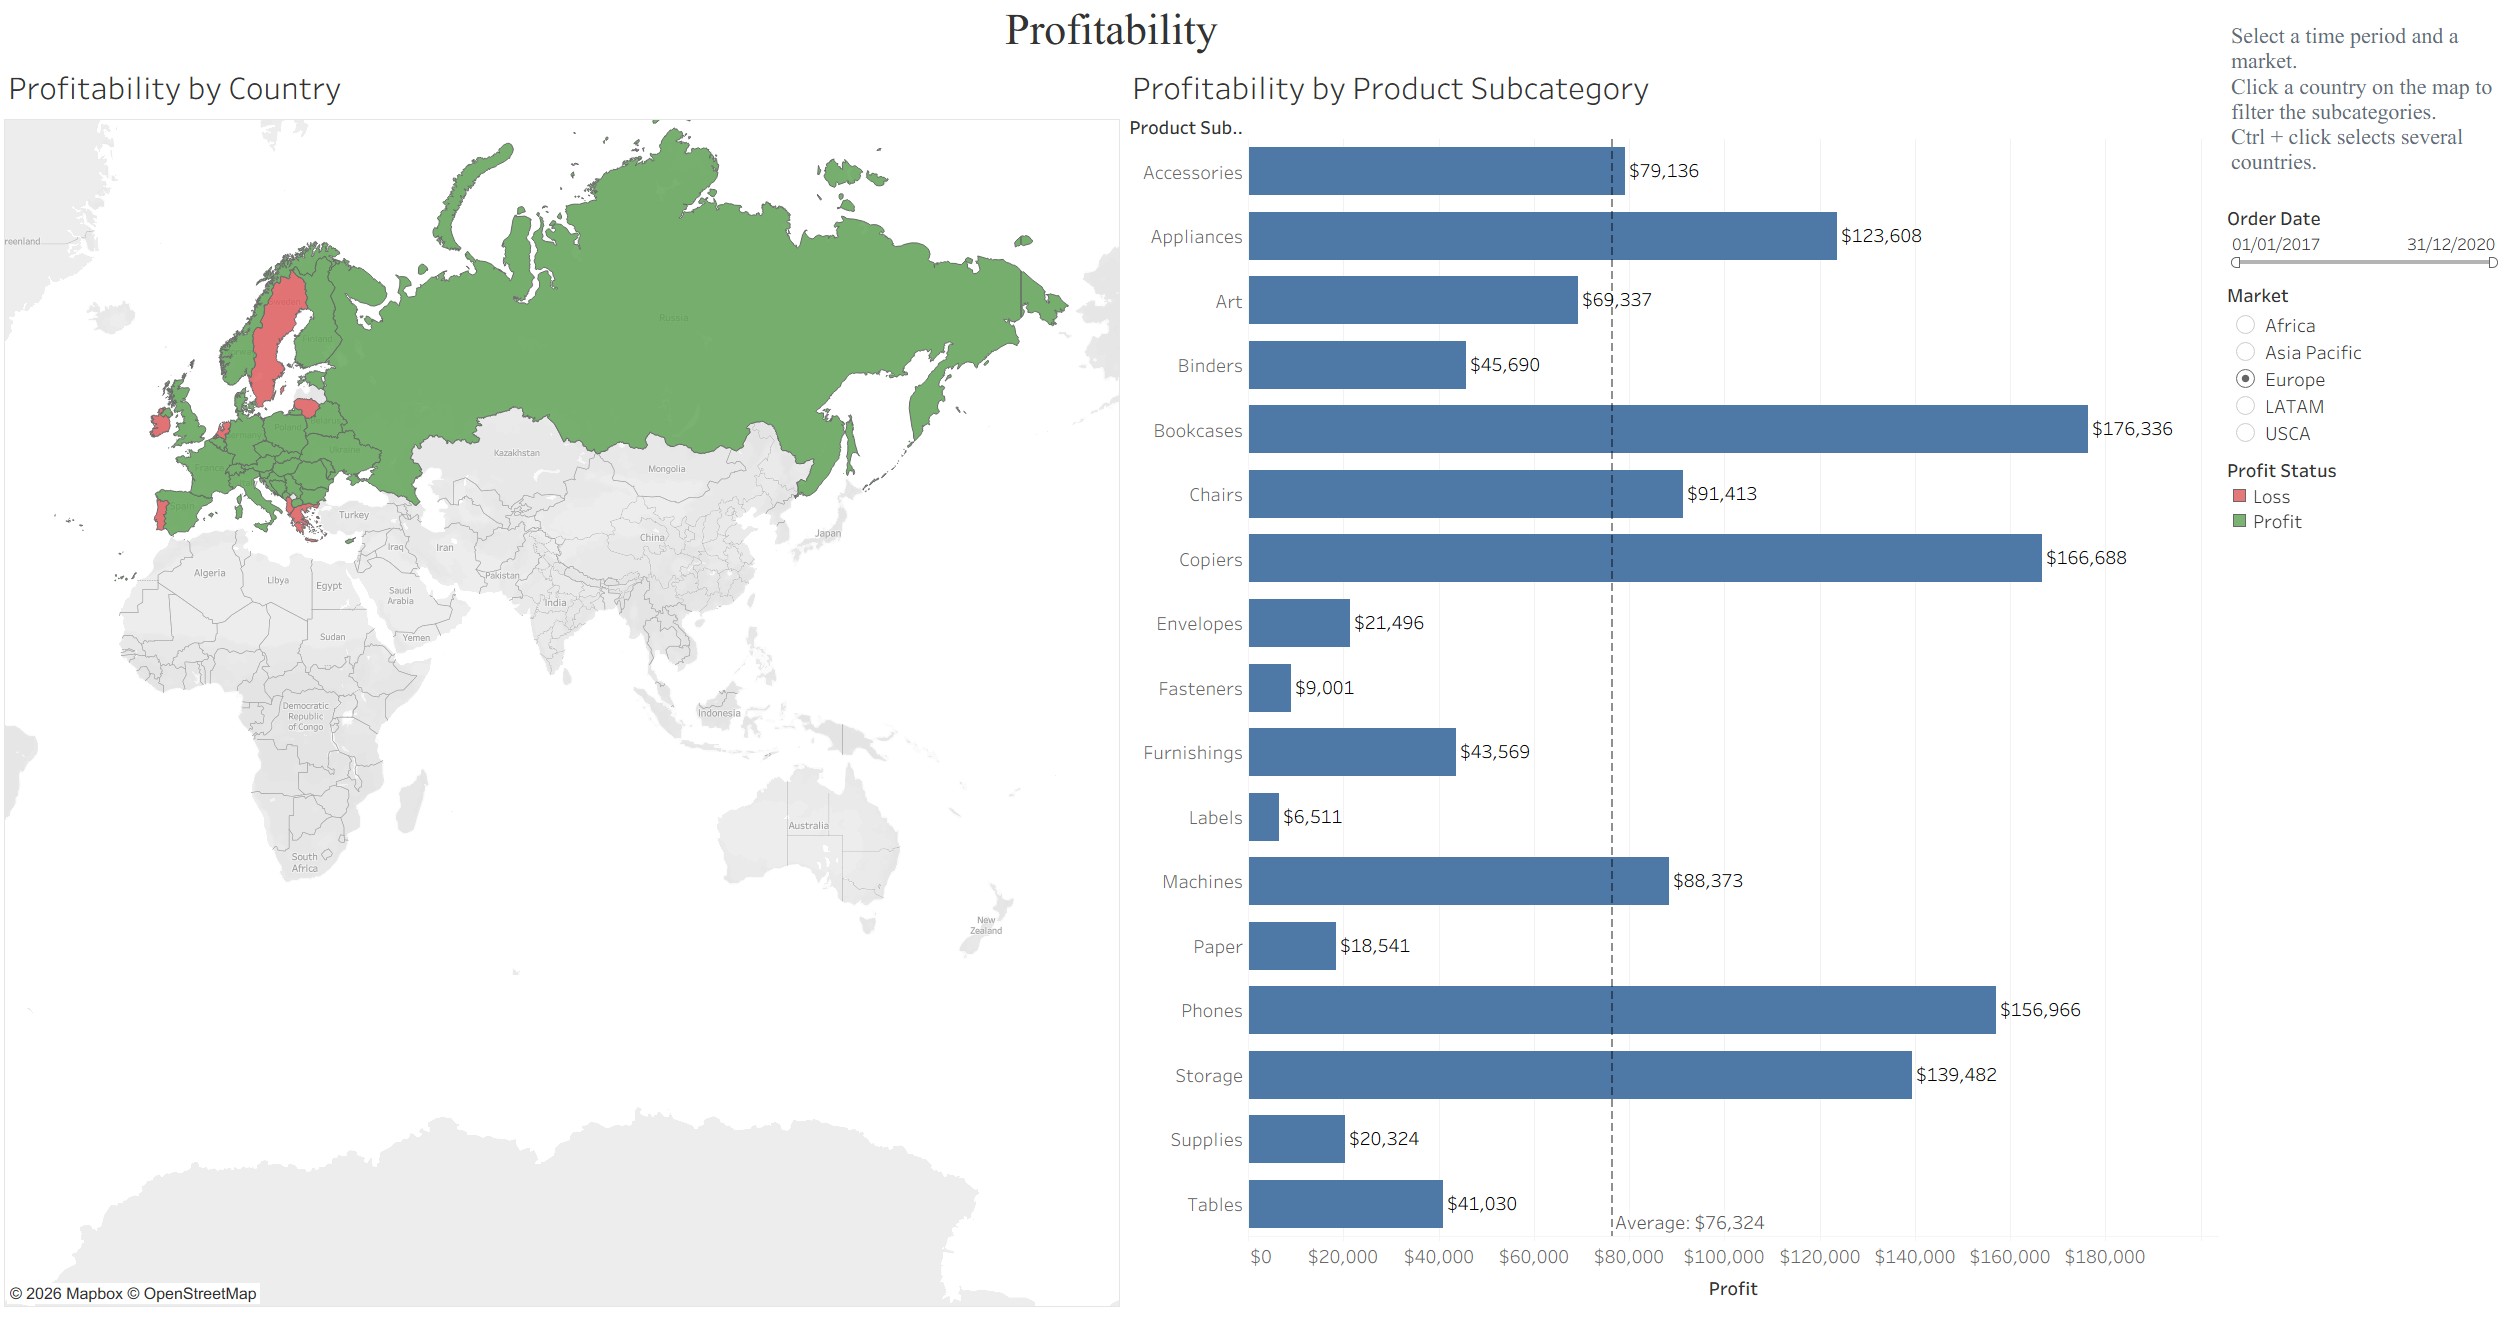

What the dashboard file says about the page in this screenshot:
{"tool":"tableau","page":{"name":"Profitability","canvas":[1000,1000],"units":"permille","ordinal":1},"visuals":[{"type":"title","box":[3.2,6,881.5,43]},{"type":"text","box":[884.6,6,112.2,150.8]},{"type":"worksheet","title":"Profitability by Country","mark":"Automatic","box":[3.2,49,445.5,945]},{"type":"worksheet","title":"Profitability by Product Subcategory","mark":"Automatic","rows":["ProductSubCategory"],"cols":["Calculation_643733336801898498"],"box":[448.7,49,435.9,945]},{"type":"filter","title":"Profitability by Country","param":"[federated.08u1zha0zau9aa1bl36je0co3owb].[none:OrderDate:qk]","box":[884.6,156.9,112.2,58.1]},{"type":"filter","title":"Profitability by Country","param":"[federated.08u1zha0zau9aa1bl36je0co3owb].[none:Market:nk]","box":[884.6,214.9,112.2,132]},{"type":"legend","title":"Profitability by Country","param":"[federated.08u1zha0zau9aa1bl36je0co3owb].[usr:Calculation_2115186936938496:nk]","box":[884.6,346.9,112.2,63.4]}]}

Visuals, with their boxes on the dashboard's canvas, which has no fixed pixel size, in thousandths of its width and height (x1, y1, x2, y2). These are canvas units, not pixel positions in the 2512x1317 screenshot, which may show the page scaled, cropped or inside an application window:
title: [3, 6, 885, 49]
text: [885, 6, 997, 157]
"Profitability by Country" worksheet: [3, 49, 449, 994]
"Profitability by Product Subcategory" worksheet: [449, 49, 885, 994]
"Profitability by Country" filter: [885, 157, 997, 215]
"Profitability by Country" filter: [885, 215, 997, 347]
"Profitability by Country" legend: [885, 347, 997, 410]
